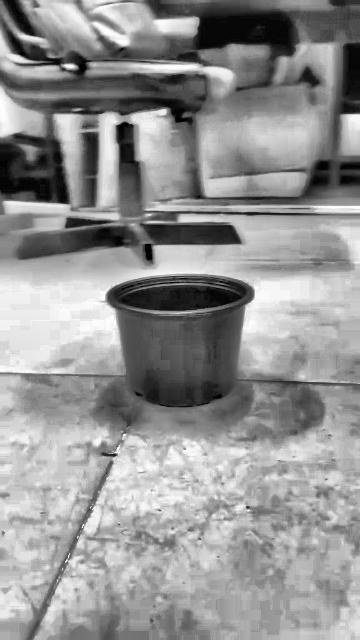pot: (108, 274, 252, 407)
